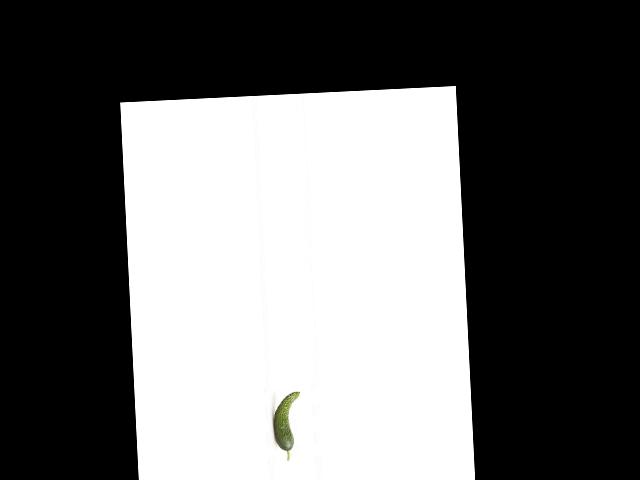cucumber: (272, 391, 302, 461)
